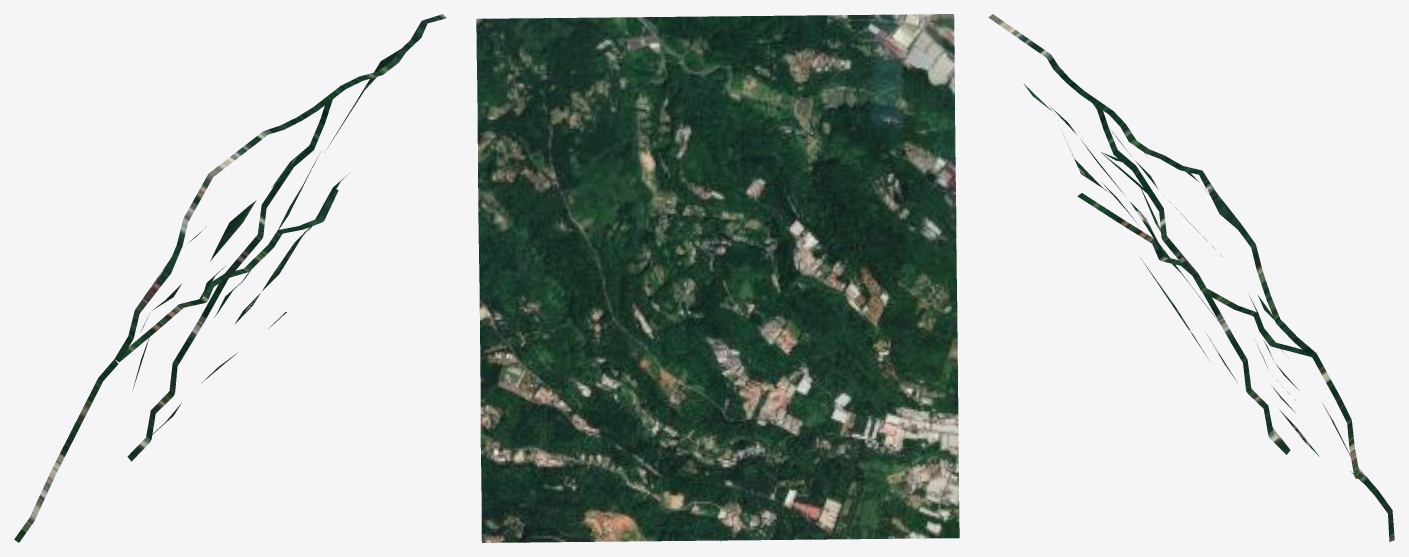
3 renders of one model, left to right at view 1: azimuth 30°, elevation 25°; view 2: azimuth 150°, elevation 25°; view 3: azimuth 270°, elevation 25°, orthographic. The views are drawn at different scales.
Size of the model in its own units: 2507 by 2243 by 2014.
Materials: 1 (1 with a texture image).
